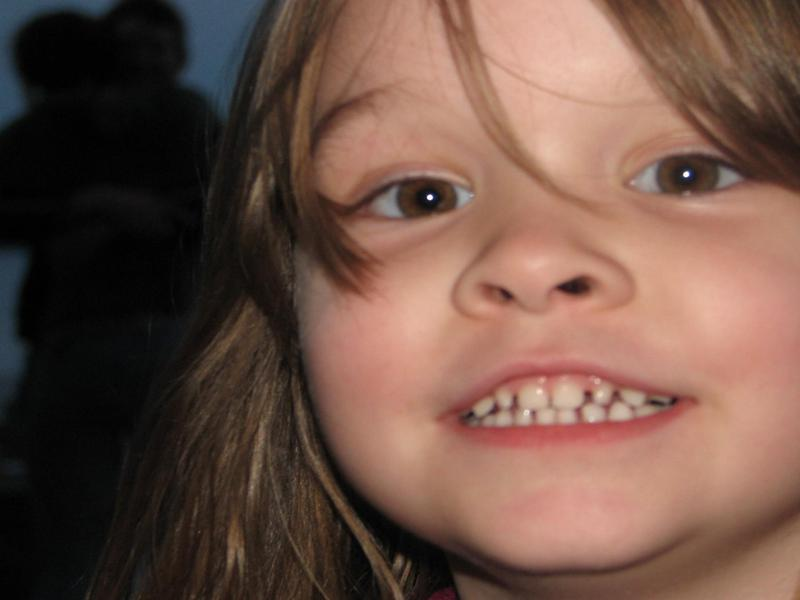person: (112, 1, 798, 600)
